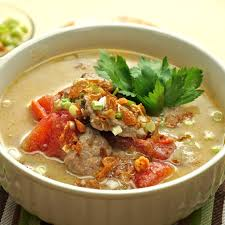soto: (5, 37, 225, 188)
